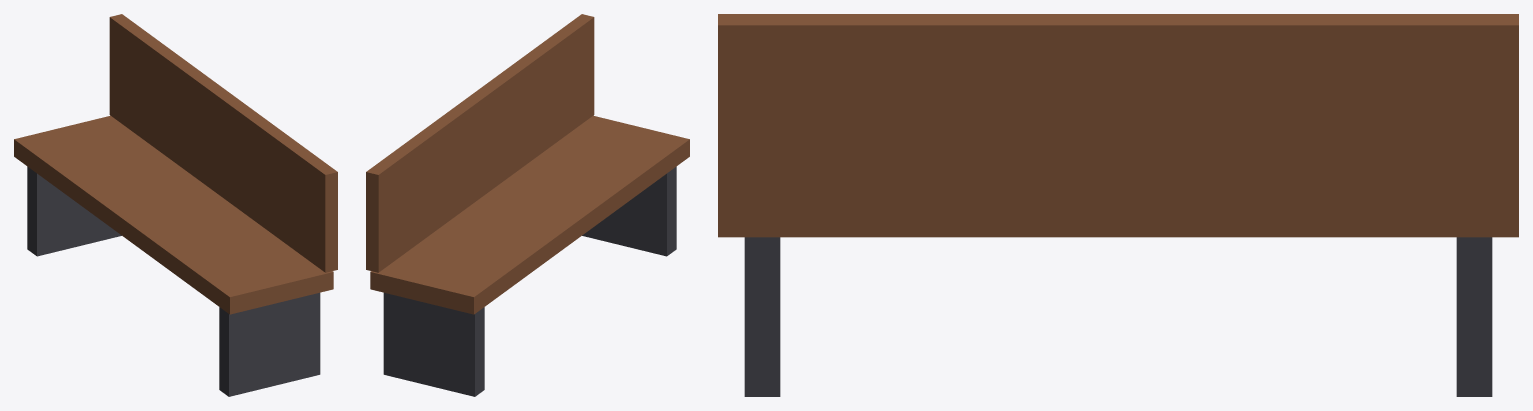
The model's file is mall_bench_4.glb.
3 renders of one model, left to right at view 1: azimuth 30°, elevation 25°; view 2: azimuth 150°, elevation 25°; view 3: azimuth 270°, elevation 25°, orthographic. The views are drawn at different scales.
Visible parts, largest first — view 1: Box1, Box2, Box4, Box3; view 2: Box1, Box2, Box3, Box4; view 3: Box2, Box1, Box3, Box4.
Boxes of the visible parts, x1,y1,x2,y2 form: Box1: (14,115,333,314); Box2: (109,14,337,272); Box4: (219,292,320,396); Box3: (27,166,121,256); Box1: (370,115,689,314); Box2: (366,14,594,272); Box3: (383,292,484,396); Box4: (582,166,676,256); Box2: (718,14,1518,206); Box1: (718,206,1518,237); Box3: (1456,237,1492,396); Box4: (744,237,780,396).
Size of the model in its own units: 0.52 by 0.945 by 1.8.
